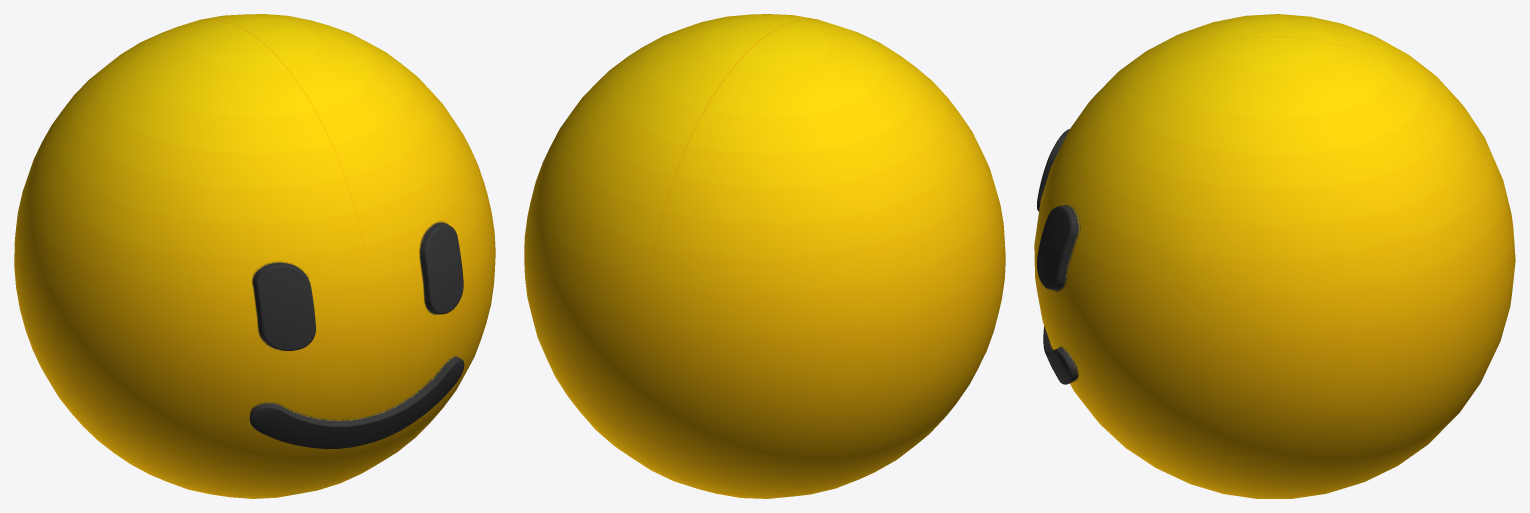
File: smile.fbx
3 views of the same model, side by side, from view 1: azimuth 30°, elevation 25°; view 2: azimuth 150°, elevation 25°; view 3: azimuth 270°, elevation 25° (orthographic).
Visible parts, largest first — view 1: mesh_id24; view 2: mesh_id24; view 3: mesh_id24.
Boxes of the visible parts, bbox=[...] form: mesh_id24: bbox=[14, 14, 495, 498]; mesh_id24: bbox=[524, 14, 1005, 498]; mesh_id24: bbox=[1034, 14, 1515, 498].
Bounding box in the file's own units: 650 × 656 × 650.
Materials: 1 (1 with a texture image).
